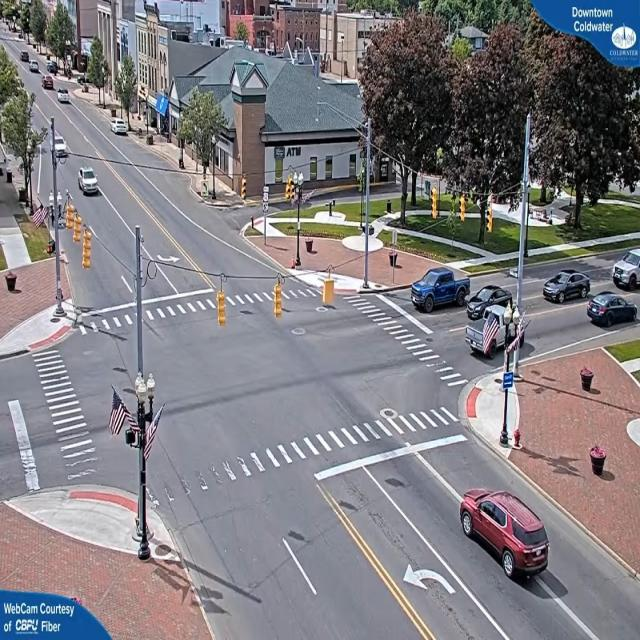car: (460, 492, 549, 581), (463, 288, 522, 361), (410, 266, 470, 311), (586, 291, 637, 330), (544, 267, 592, 304), (611, 250, 640, 291), (76, 167, 98, 196), (53, 132, 69, 160), (112, 121, 130, 138), (43, 76, 56, 92), (58, 89, 70, 104), (27, 61, 40, 72)
